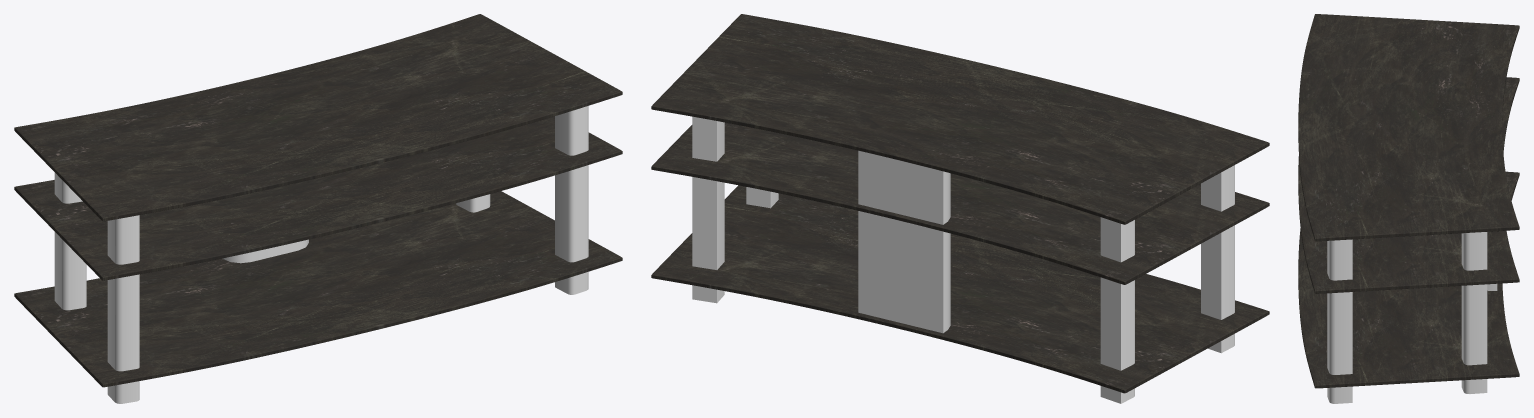
Rendered from TV Stand 2.glb.
The picture shows the model from 3 angles, left to right: view 1: azimuth 30°, elevation 25°; view 2: azimuth 150°, elevation 25°; view 3: azimuth 270°, elevation 25°; orthographic projection. The views are drawn at different scales.
Size of the model in its own units: 5.34 by 1.95 by 2.22.
2 materials, 1 textured.
